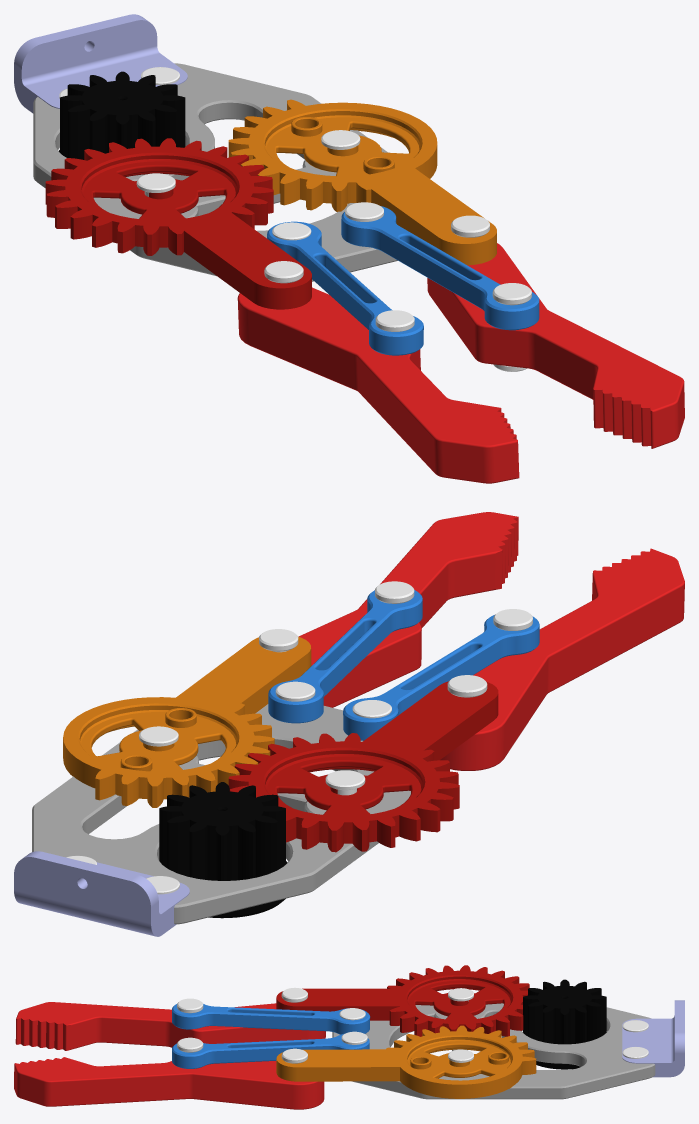
The model's file is RobotGripper.glb.
3 renders of one model, top to bottom at view 1: azimuth 30°, elevation 25°; view 2: azimuth 150°, elevation 25°; view 3: azimuth 270°, elevation 25°, orthographic. The views are drawn at different scales.
Parts seen in each view (by area): view 1: Red Gear link, Orange gear link, Right Gripper, Left Gripper, Base Plate, Base Mounting bracket, BASE_GEAR, Left link, Right link, pin001, pin006, pin005 (+1 smaller); view 2: Red Gear link, Orange gear link, Base Plate, Right Gripper, Left Gripper, BASE_GEAR, Base Mounting bracket, Left link, Right link, pin008, pin005, pin006 (+4 smaller); view 3: Left Gripper, Orange gear link, Red Gear link, Base Plate, Right Gripper, BASE_GEAR, Right link, Left link, Base Mounting bracket, pin001, pin006, pin005 (+7 smaller).
Part boxes in pixels (x1,y1,x2,y2): Red Gear link: (45,138,311,309); Orange gear link: (228,99,496,265); Right Gripper: (237,287,519,483); Left Gripper: (427,243,684,448); Base Plate: (33,63,397,281); Base Mounting bracket: (14,14,187,113); BASE_GEAR: (58,71,185,159); Left link: (341,206,539,330); Right link: (267,221,423,355); pin001: (492,283,531,371); pin006: (264,261,303,283); pin005: (451,215,489,237); Red Gear link: (228,681,498,852); Orange gear link: (63,636,311,807); Base Plate: (32,704,410,924); Right Gripper: (440,548,684,770); Left Gripper: (299,512,518,707); BASE_GEAR: (159,782,287,918); Base Mounting bracket: (14,851,189,936); Left link: (268,590,422,723); Right link: (343,615,539,740); pin008: (325,770,365,795); pin005: (259,629,298,652); pin006: (447,675,487,697); Left Gripper: (14,1057,324,1109); Orange gear link: (276,1025,536,1098); Red Gear link: (276,965,529,1036); Base Plate: (332,1003,655,1099); Right Gripper: (15,1002,325,1050); BASE_GEAR: (523,979,606,1069); Right link: (172,1004,370,1034); Left link: (172,1033,369,1068); Base Mounting bracket: (622,1000,684,1077); pin001: (177,1037,203,1052); pin006: (281,987,307,1002); pin005: (281,1048,307,1063).
Bounding box in the file's own units: 0.0537 × 0.0124 × 0.1282.
